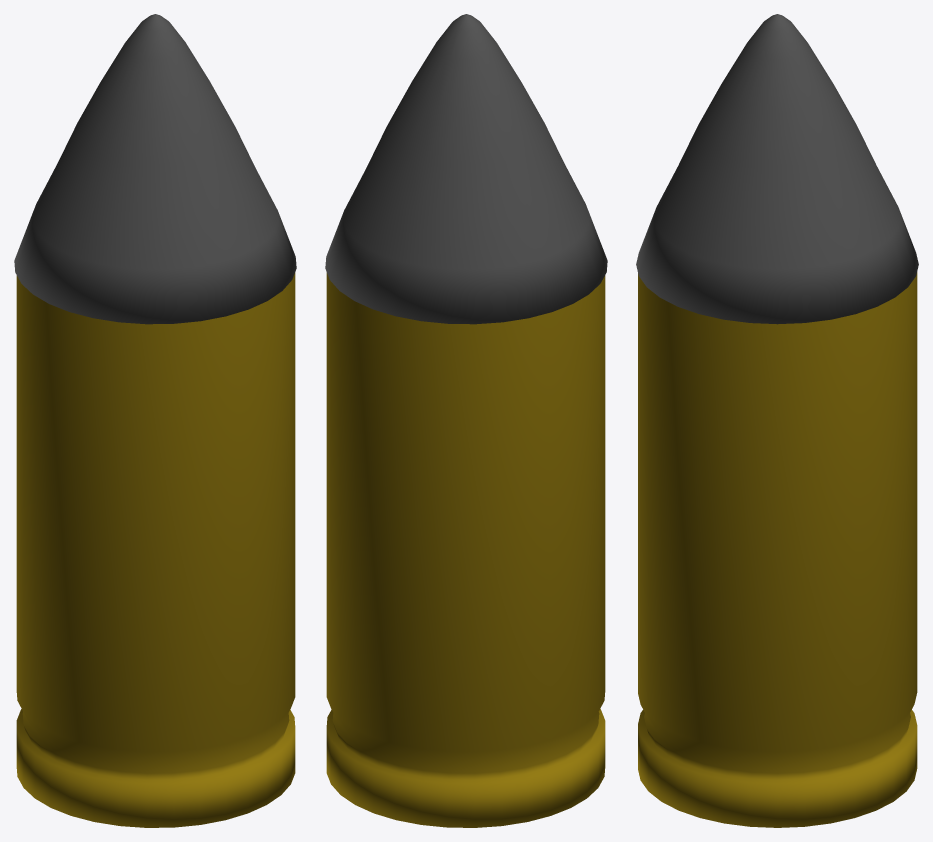
The model's file is bala.fbx.
3 renders of one model, left to right at view 1: azimuth 30°, elevation 25°; view 2: azimuth 150°, elevation 25°; view 3: azimuth 270°, elevation 25°, orthographic.
Visible parts, largest first — view 1: Bala; view 2: Bala; view 3: Bala.
Part boxes in pixels (x1,y1,x2,y2): Bala: (14, 14, 296, 827); Bala: (325, 14, 607, 827); Bala: (636, 14, 918, 827).
Bounding box in the file's own units: 89.4 × 263 × 89.4.
